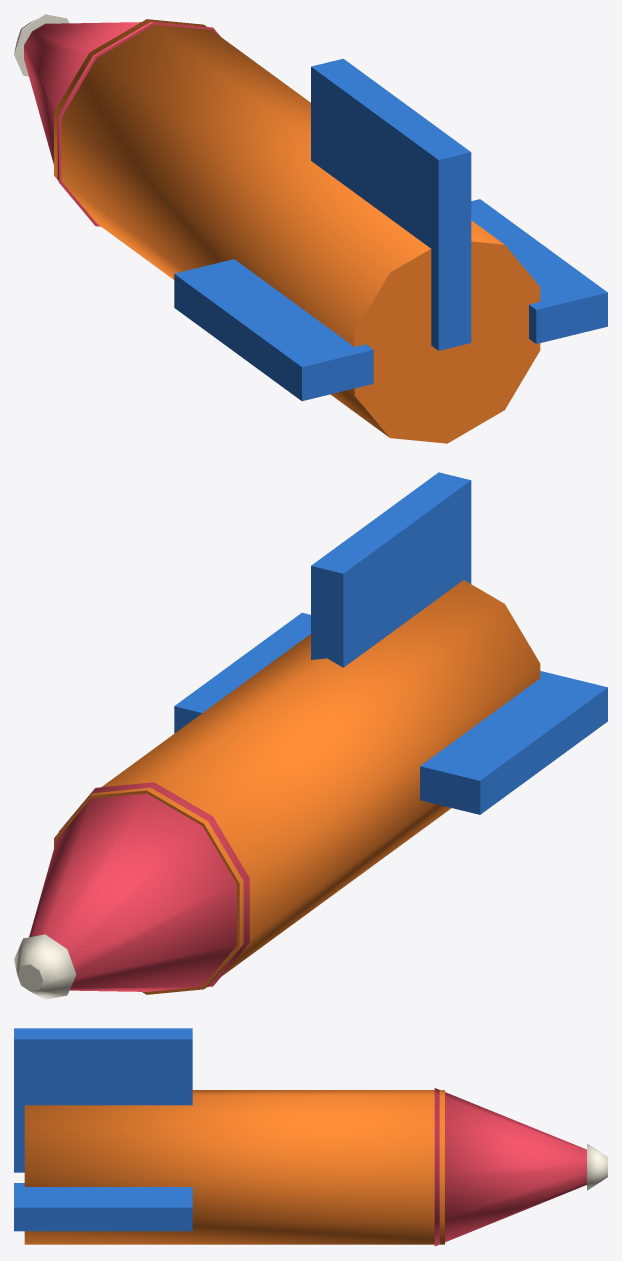
File: fps_rocket.glb
3 views of the same model, one above another, from view 1: azimuth 30°, elevation 25°; view 2: azimuth 150°, elevation 25°; view 3: azimuth 270°, elevation 25° (orthographic). The views are drawn at different scales.
Parts seen in each view (by area): view 1: Foam body, detail_Blueberry, muzzle_tip, Soft nose; view 2: Foam body, detail_Blueberry, muzzle_tip, Soft nose; view 3: Foam body, detail_Blueberry, muzzle_tip, Soft nose.
Part boxes in pixels (x1,y1,x2,y2): Foam body: [54, 19, 540, 443]; detail_Blueberry: [174, 58, 607, 401]; muzzle_tip: [24, 22, 220, 226]; Soft nose: [14, 14, 68, 76]; Foam body: [54, 580, 540, 994]; detail_Blueberry: [174, 472, 607, 814]; muzzle_tip: [29, 782, 249, 991]; Soft nose: [14, 934, 76, 999]; Foam body: [24, 1090, 444, 1244]; detail_Blueberry: [14, 1028, 192, 1231]; muzzle_tip: [434, 1088, 586, 1246]; Soft nose: [587, 1144, 607, 1190].
Size of the model in its own units: 0.235 by 0.217 by 0.565.
